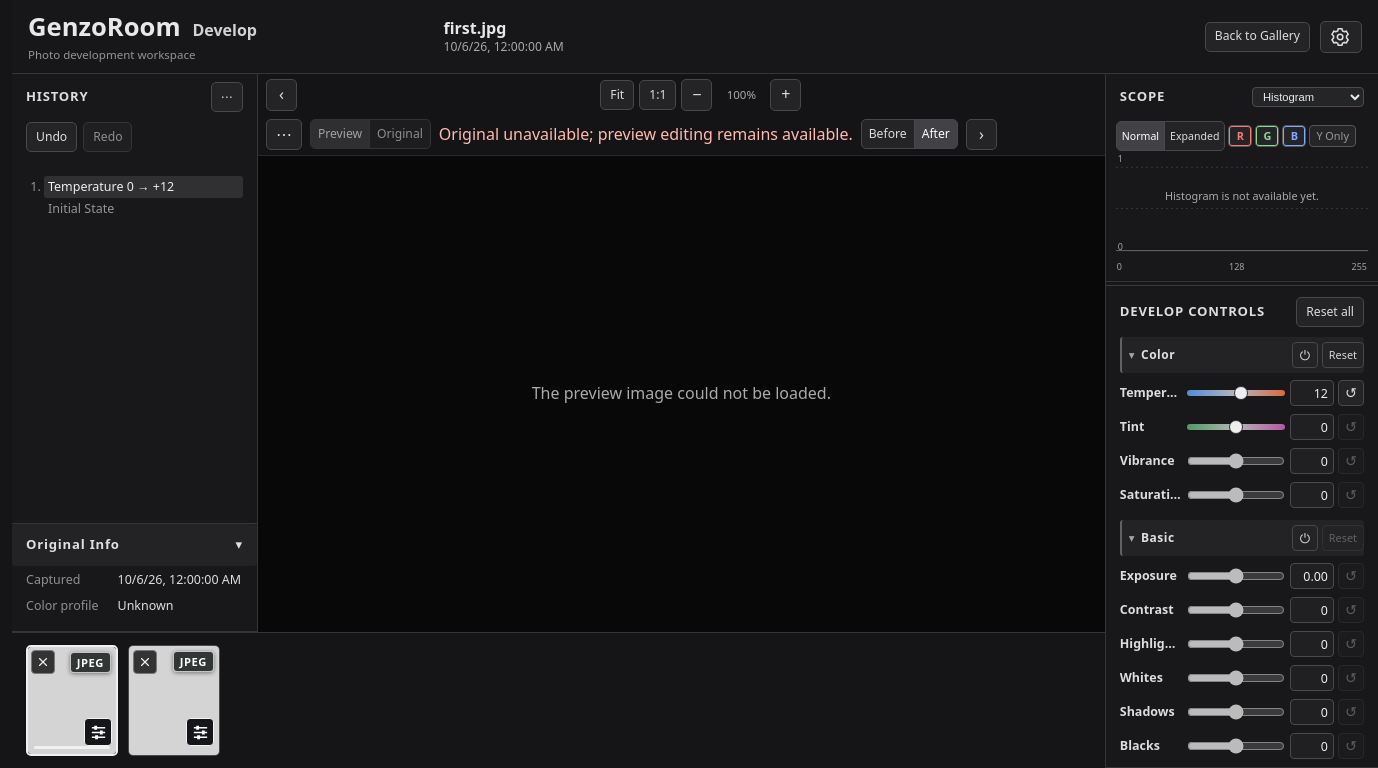
Anshitsu Export Queue integration › excludes dirty History-only Recipe from Q without changing autosave
Click the button "Reset all" at (1330, 312), box [1296,297,1364,327]
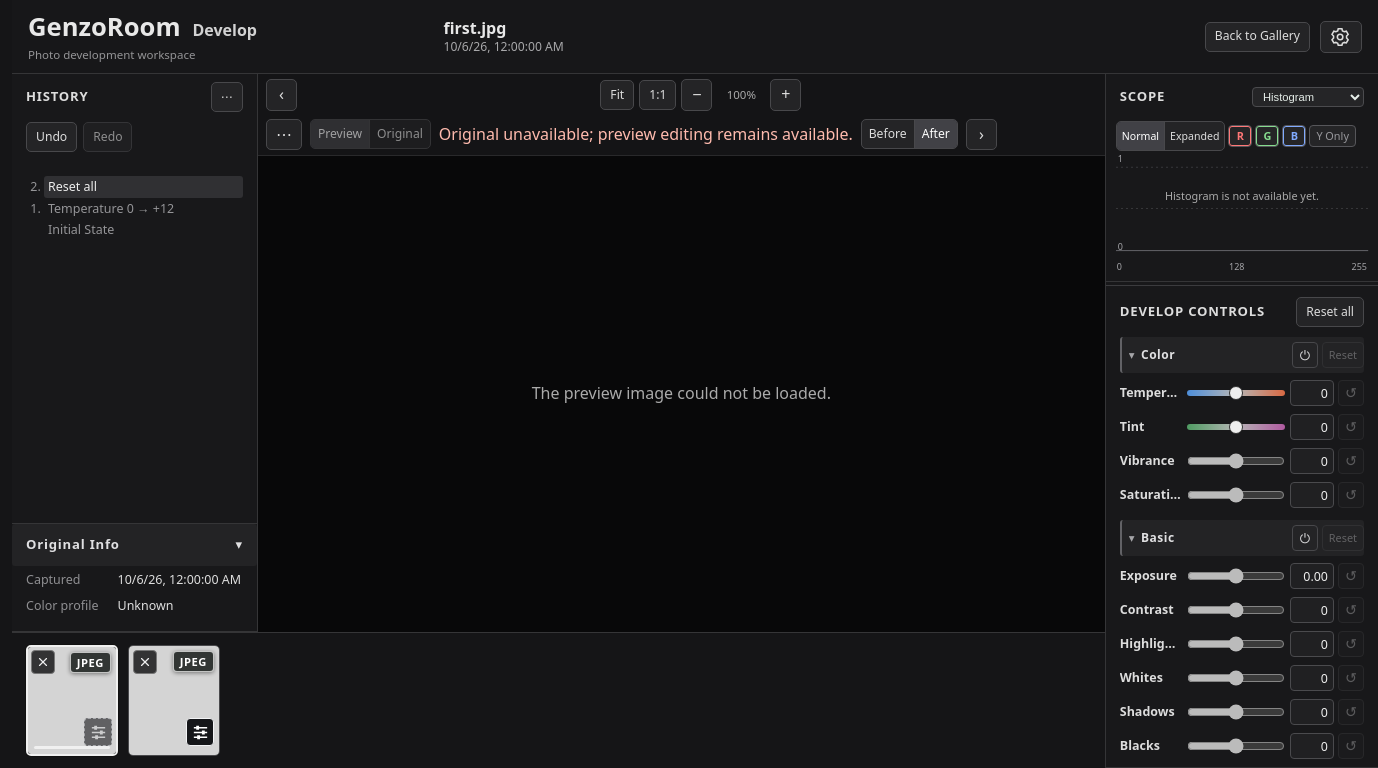
Expected: the picture with class "filmstrip-history-badge" is shown, [84,718,112,746]
